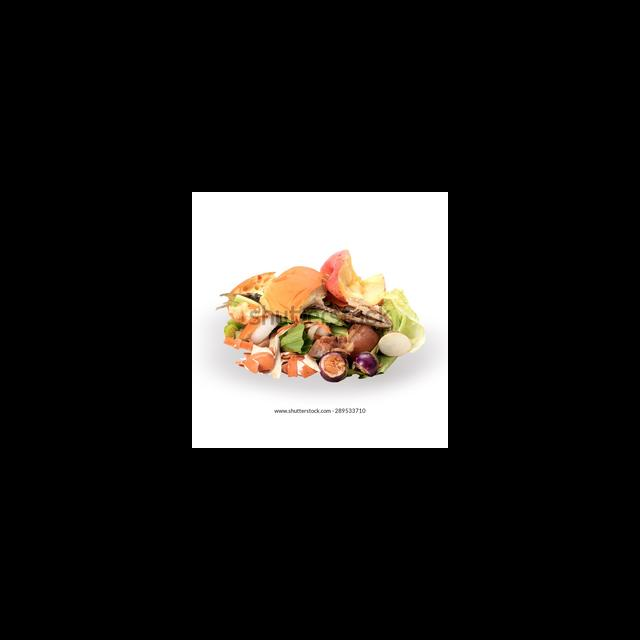food_waste: (222, 253, 424, 380)
